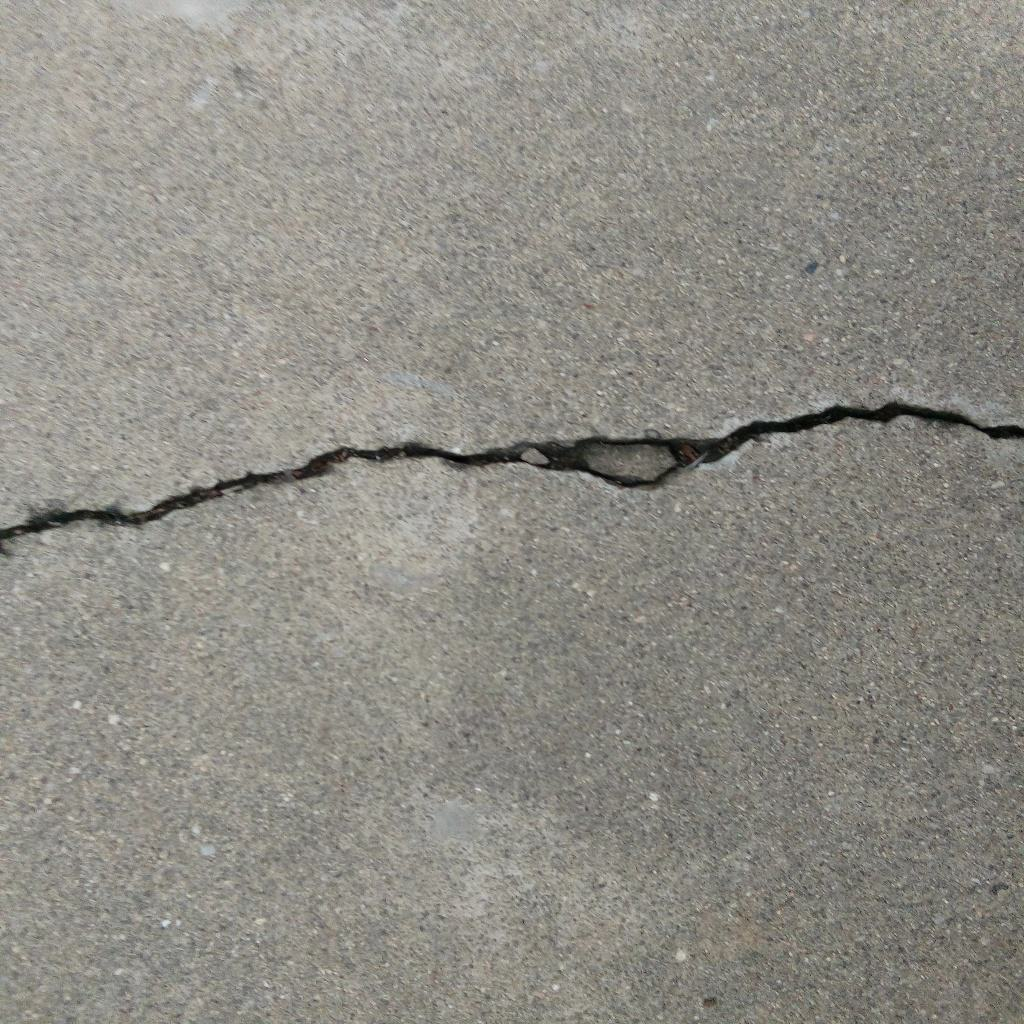Crack: (1, 397, 1024, 546)
